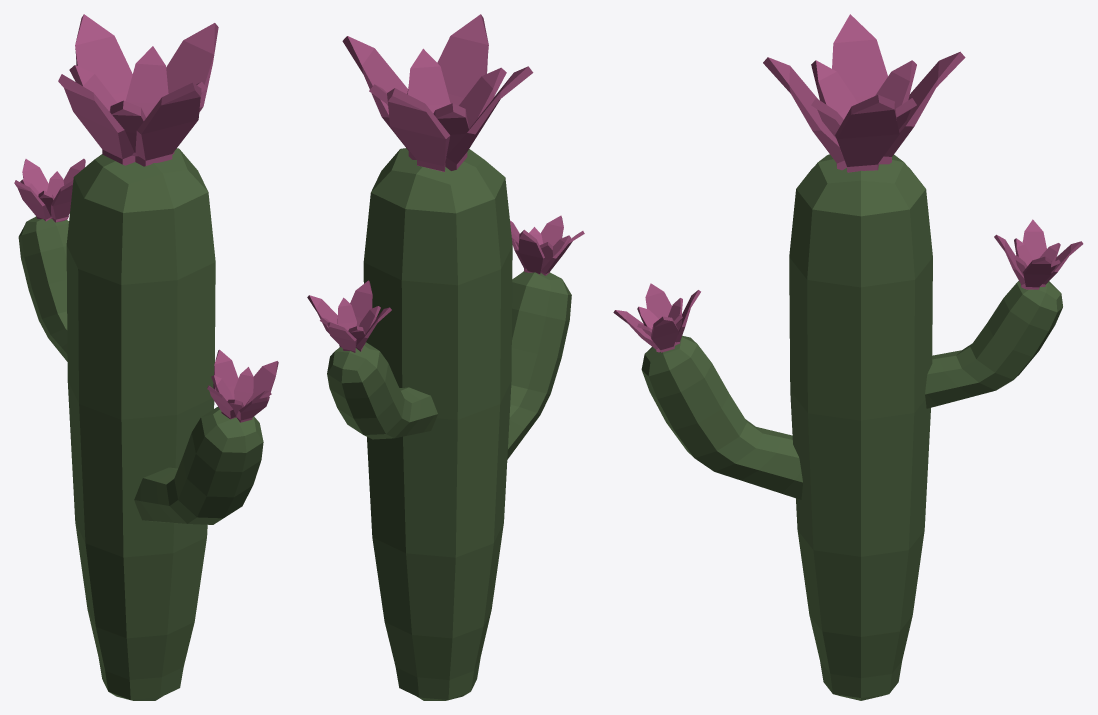
The model's file is cactus_flower3.glb.
The picture shows the model from 3 angles, left to right: view 1: azimuth 30°, elevation 25°; view 2: azimuth 150°, elevation 25°; view 3: azimuth 270°, elevation 25°; orthographic projection.
Parts seen in each view (by area): view 1: CactusFlowers_3; view 2: CactusFlowers_3; view 3: CactusFlowers_3.
Boxes of the visible parts, <box> form: CactusFlowers_3: <box>14,14,278,700</box>; CactusFlowers_3: <box>307,14,584,700</box>; CactusFlowers_3: <box>613,14,1083,700</box>.
Bounding box in the file's own units: 0.4774 × 1.67 × 1.12.
